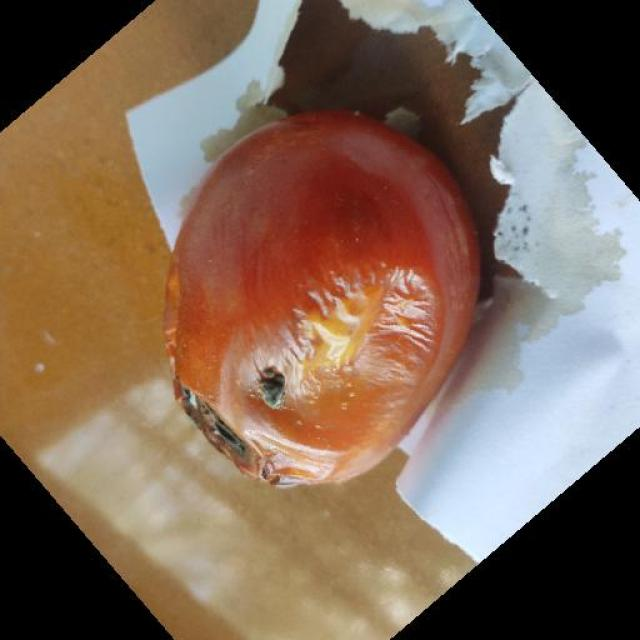Stale_tomato: (177, 117, 480, 522)
